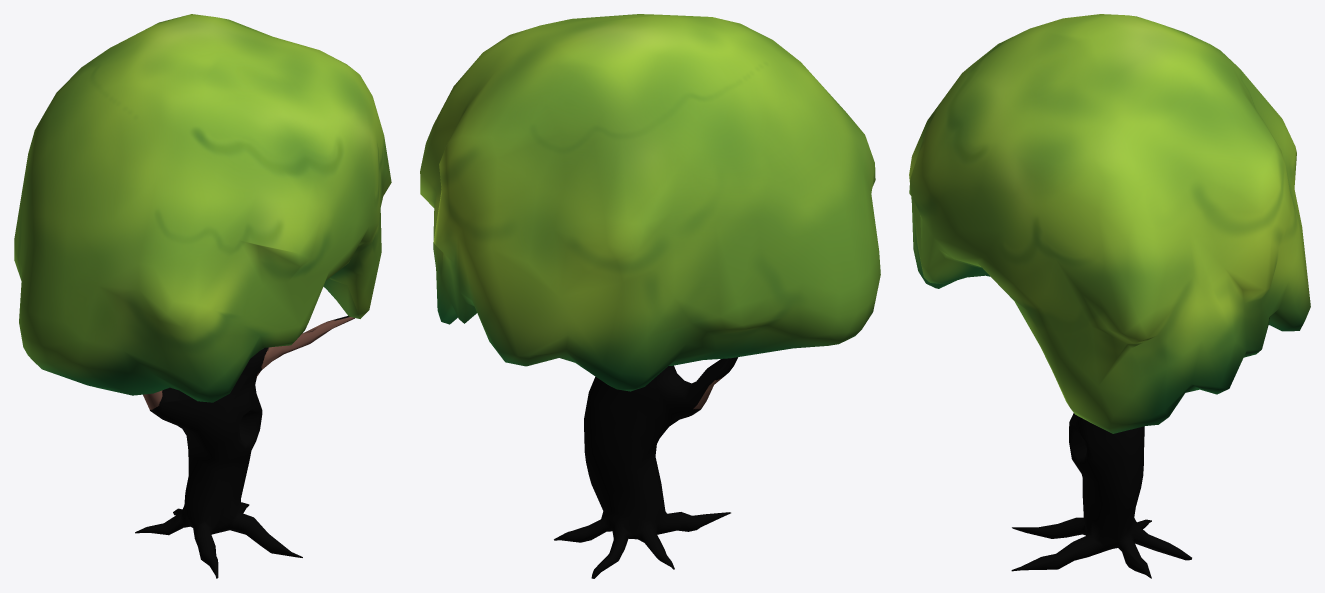
The model's file is ARBOL PARQUE.fbx.
3 renders of one model, left to right at view 1: azimuth 30°, elevation 25°; view 2: azimuth 150°, elevation 25°; view 3: azimuth 270°, elevation 25°, orthographic. The views are drawn at different scales.
Visible parts, largest first — view 1: ARBOL; view 2: ARBOL; view 3: ARBOL.
Boxes of the visible parts, box(x1,y1,x2,y2) form: ARBOL: box(14, 14, 391, 578); ARBOL: box(420, 14, 880, 578); ARBOL: box(909, 14, 1310, 578).
Size of the model in its own units: 2308 by 2858 by 1997.
